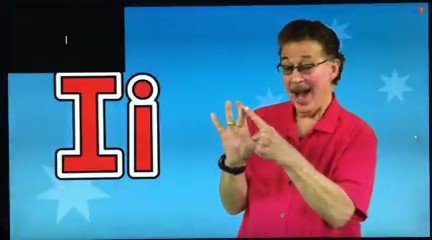I: (206, 98, 284, 170)
